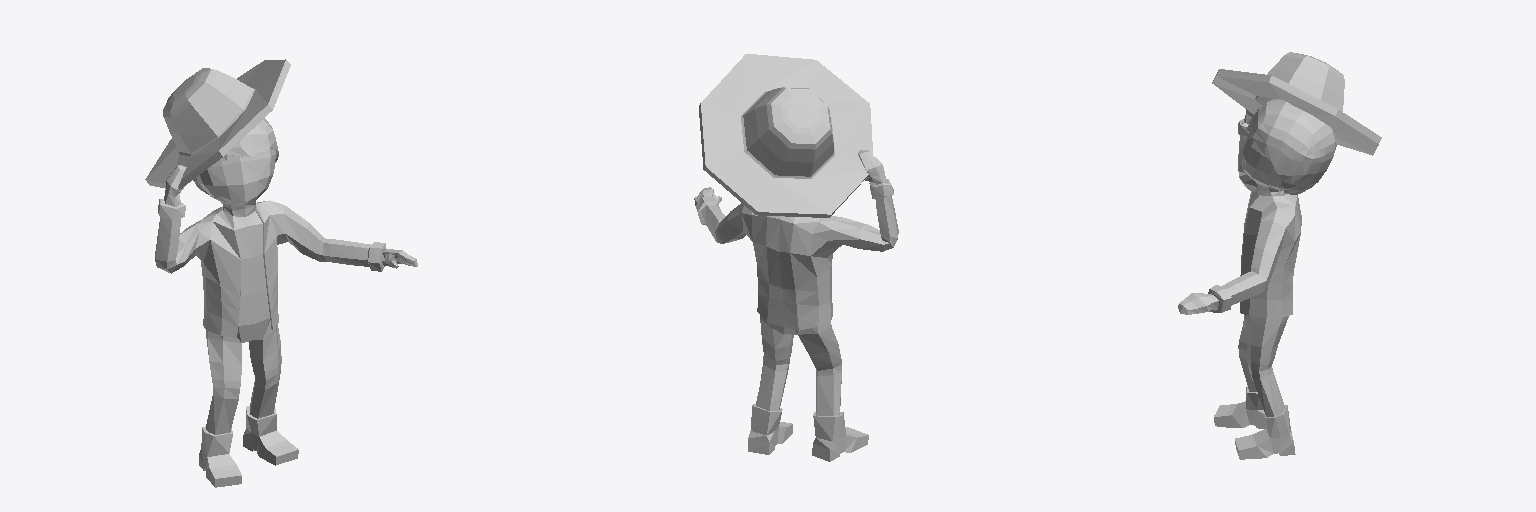
Rendered from dave.obj.
The picture shows the model from 3 angles: view 1: azimuth 30°, elevation 25°; view 2: azimuth 150°, elevation 25°; view 3: azimuth 270°, elevation 25°; orthographic projection.
Parts seen in each view (by area): view 1: Character; view 2: Character; view 3: Character.
Boxes of the visible parts, x1=… form: Character: x1=145, y1=59, x2=417, y2=487; Character: x1=694, y1=54, x2=898, y2=461; Character: x1=1178, y1=52, x2=1381, y2=459.
Size of the model in its own units: 1.22 by 1.95 by 0.932.